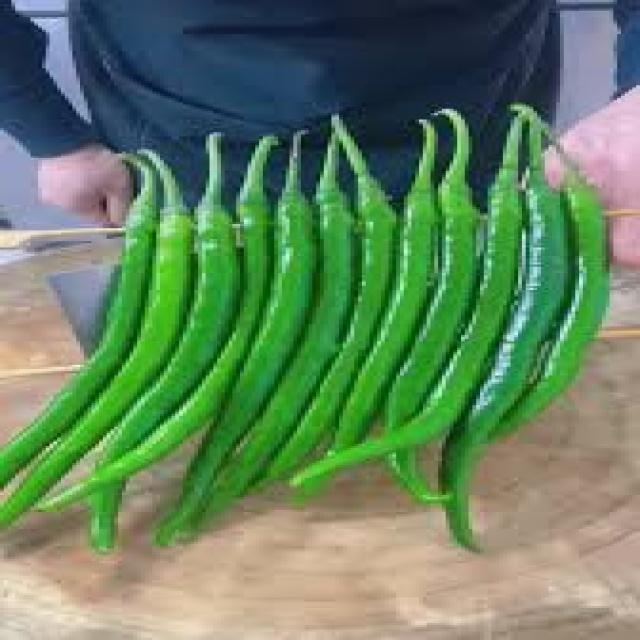green chilli: (43, 140, 281, 503), (158, 134, 314, 548), (4, 156, 160, 483), (106, 134, 231, 466), (278, 122, 396, 466), (411, 119, 526, 432), (331, 119, 438, 451), (385, 109, 480, 428), (446, 478, 476, 550)
